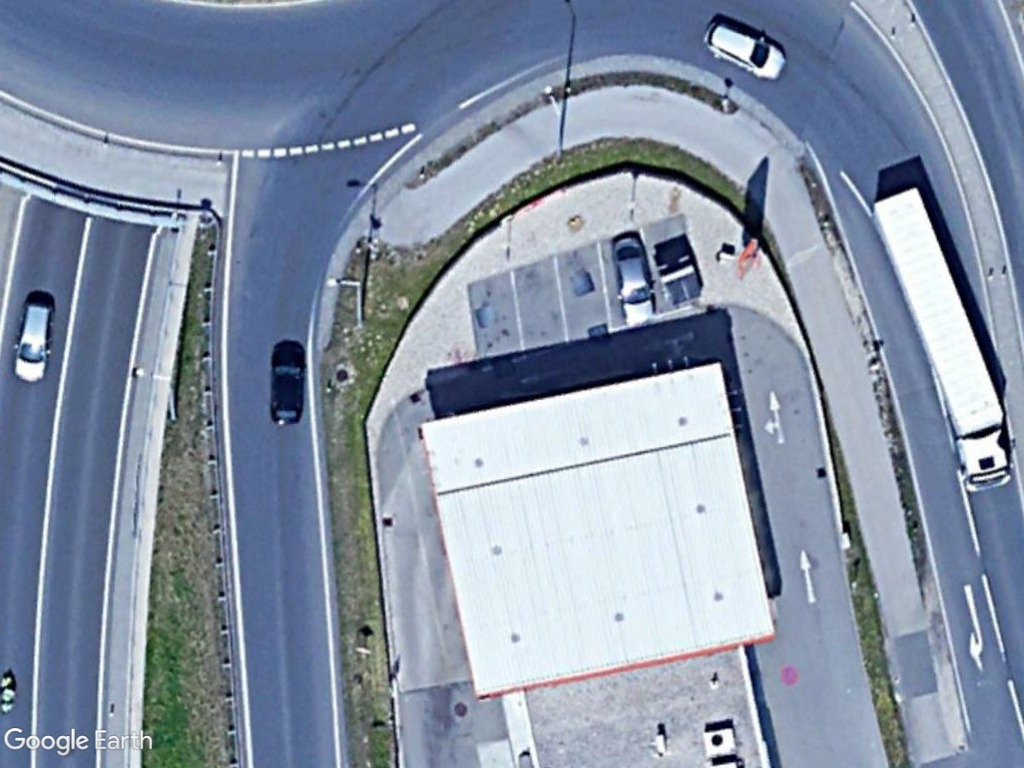car: (698, 16, 791, 84), (9, 293, 56, 383), (611, 235, 655, 331), (265, 340, 310, 429)
longvehicle: (870, 177, 1018, 491)
